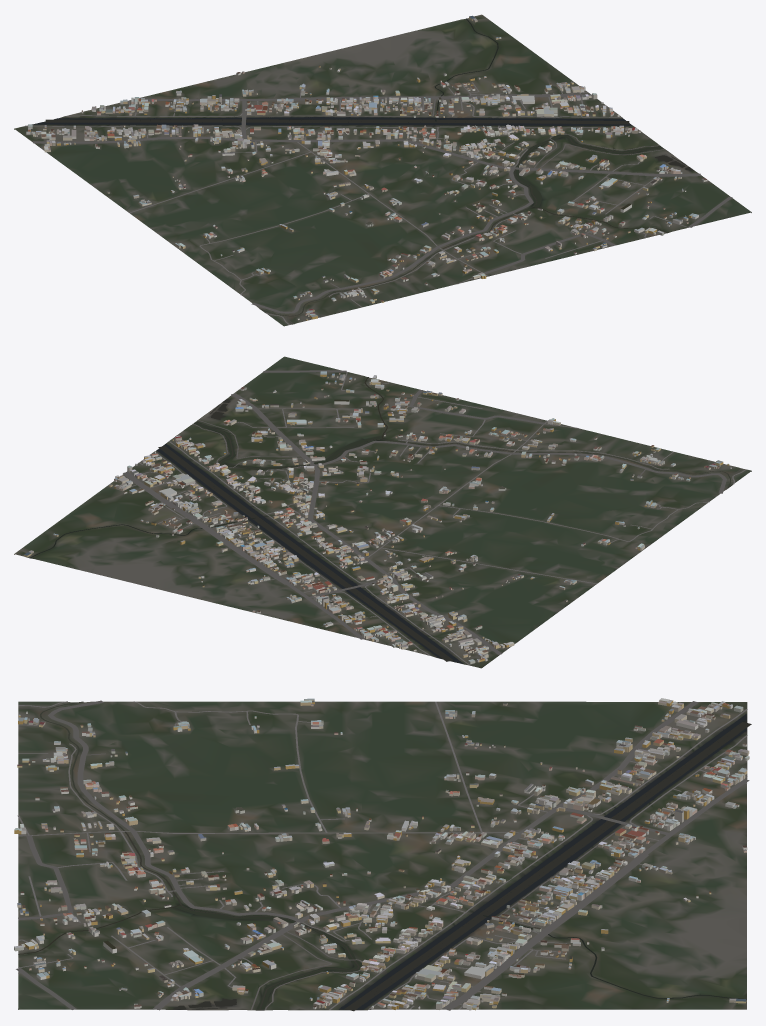
3 renders of one model, top to bottom at view 1: azimuth 30°, elevation 25°; view 2: azimuth 150°, elevation 25°; view 3: azimuth 270°, elevation 25°, orthographic. The views are drawn at different scales.
Parts seen in each view (by area): view 1: ground, buildings, roads, water; view 2: ground, buildings, roads, water; view 3: ground, buildings, roads, water.
Boxes of the visible parts, x1,y1,x2,y2 form: ground: (14,14,751,326); buildings: (26,15,707,320); roads: (25,82,732,324); water: (32,18,693,323); ground: (14,356,751,668); buildings: (24,371,731,664); roads: (123,370,746,665); water: (30,377,741,663); ground: (18,701,747,1010); buildings: (14,698,749,1010); roads: (16,700,749,1010); water: (18,701,751,1011).
Bounding box in the file's own units: 1411 × 25.62 × 1418.
